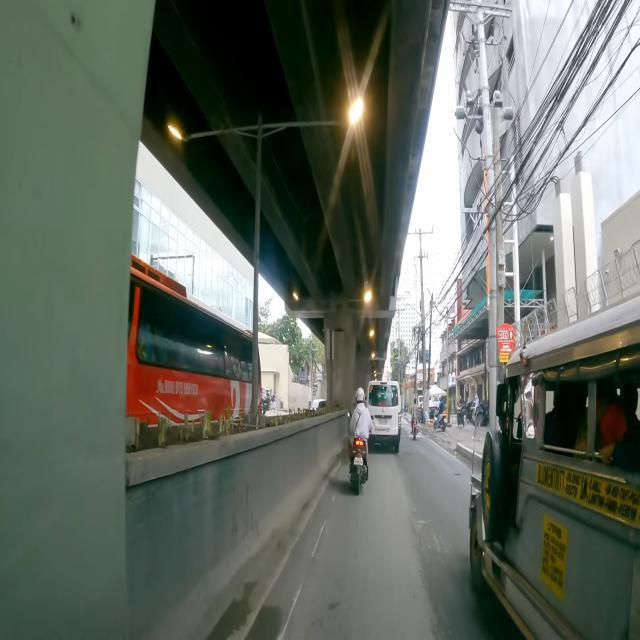bus: (126, 255, 252, 425)
car: (368, 381, 401, 452)
jeepney: (468, 296, 640, 640)
motorcycle: (348, 388, 372, 493), (434, 395, 448, 431), (411, 398, 421, 440), (456, 394, 466, 426)
